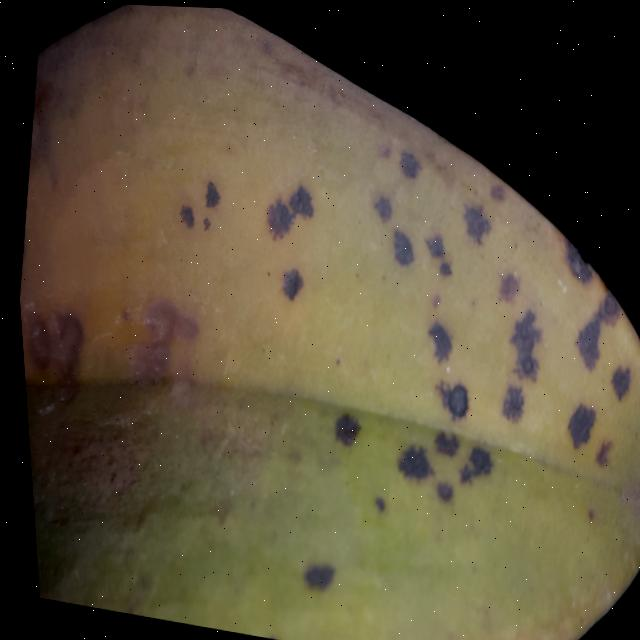mite: (250, 386, 492, 640), (291, 398, 359, 600), (440, 375, 465, 417), (425, 423, 454, 456), (362, 483, 383, 516), (427, 472, 448, 501), (253, 625, 277, 639), (366, 490, 380, 510), (256, 631, 273, 639)
sunburn: (16, 1, 640, 640)
